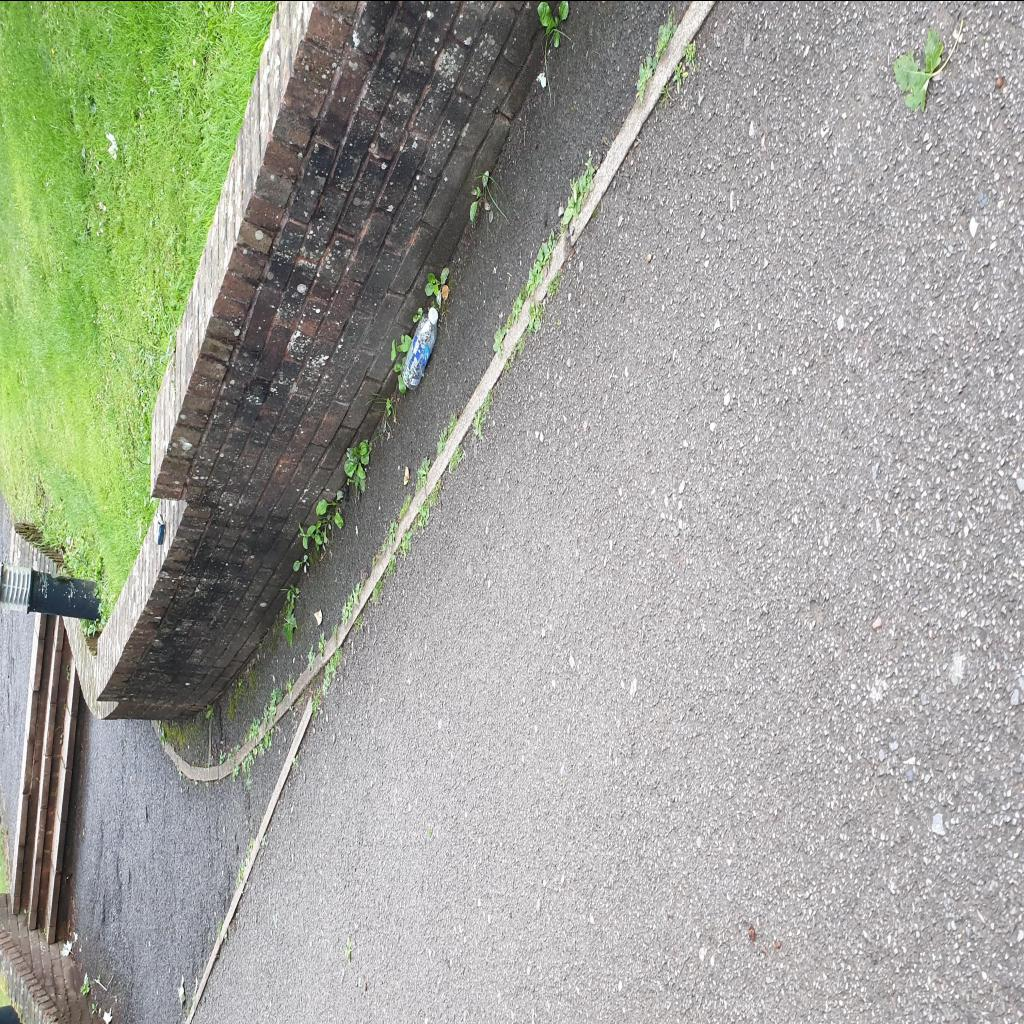Clear plastic bottle: (401, 306, 438, 390)
Other carton: (153, 512, 165, 544)
Plastic bottle cap: (430, 306, 438, 322)
